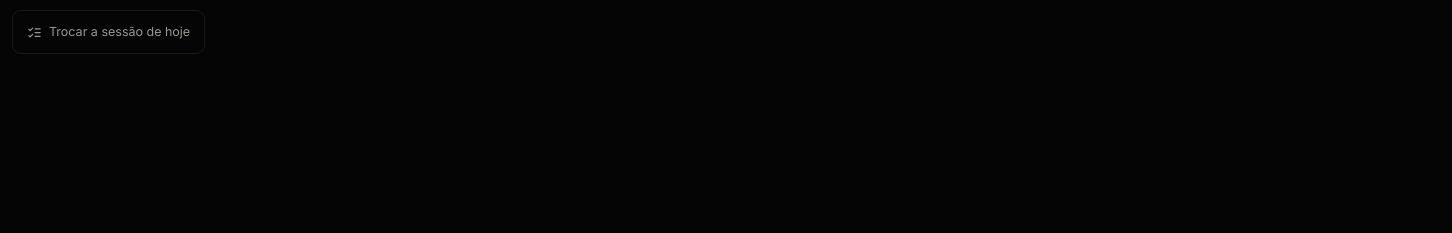
Scenario: falha ao carregar oferece tentar de novo
Click the button with test id "escolher-sessao-abrir" at (109, 32), box [12, 10, 205, 54]
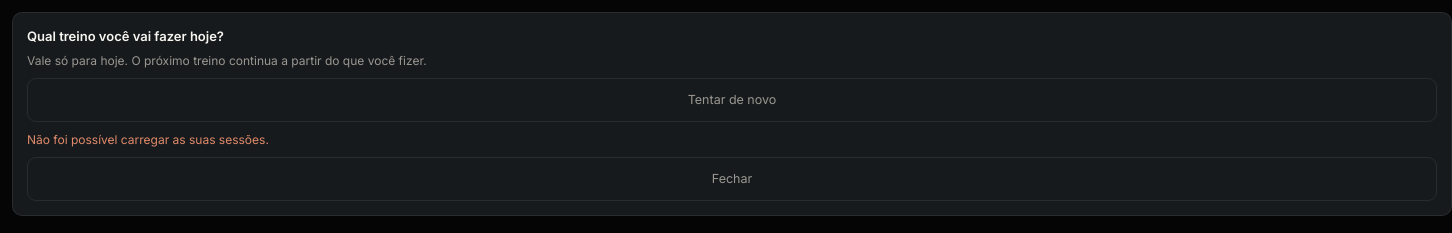
Now the text "Tentar de novo" is shown, box [27, 78, 1437, 122]
